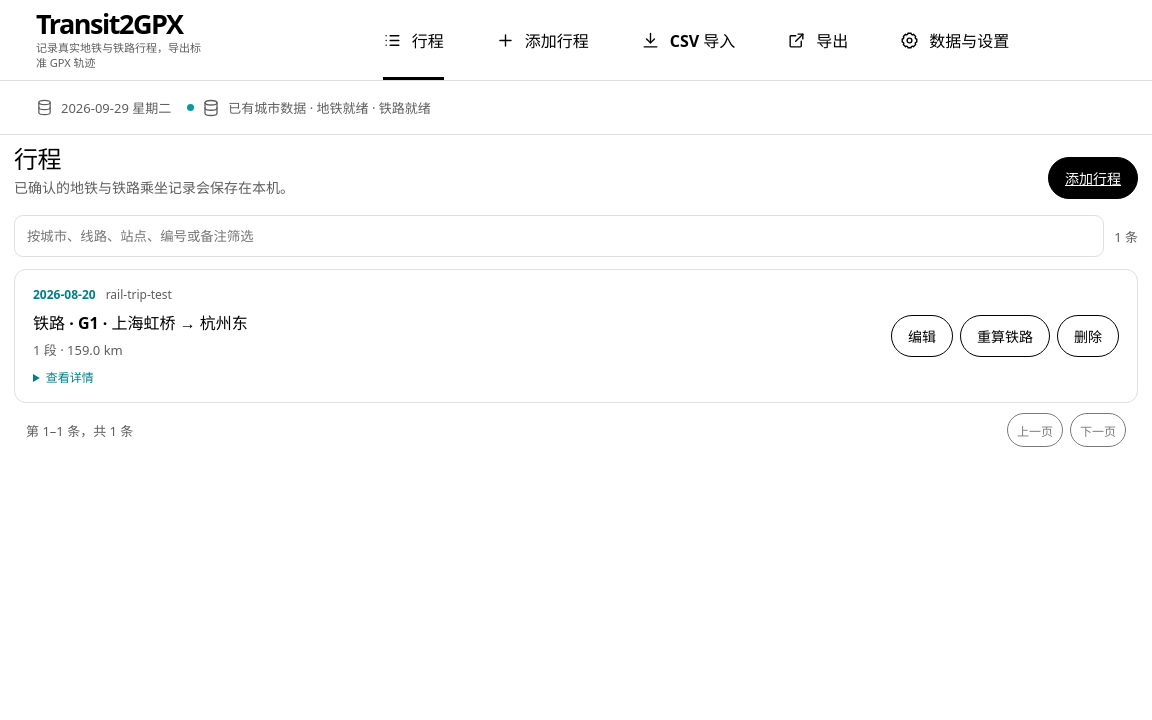
Test: Transit2GPX app shell › previews and confirms an immutable railway journey recompute
Click the button "重算铁路".
click(1005, 336)  # box [960,315,1050,357]
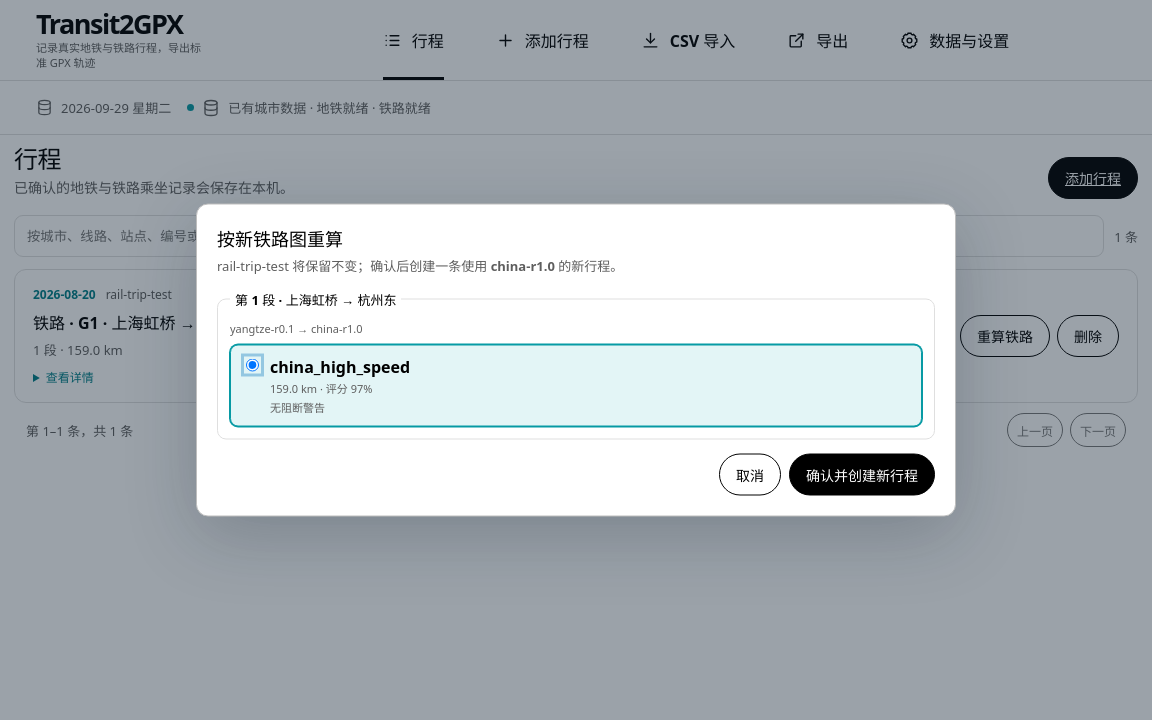
Check: the heading "按新铁路图重算" is shown, box [217,226,343,250]
Check: the text "yangtze-r0.1 → china-r1.0" is shown, box [230,320,363,336]
Check: the text "159.0 km · 评分 97%" is shown, box [270,380,372,396]
Click the button "确认并创建新行程".
click(862, 474)  # box [789,454,935,496]
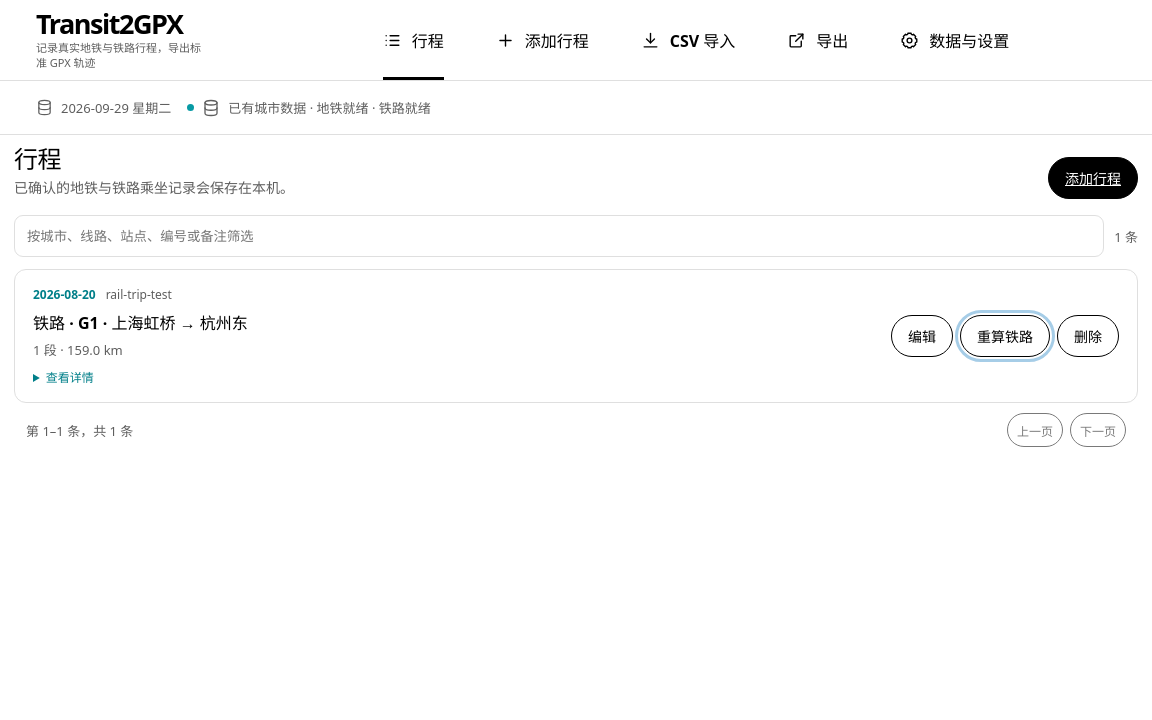
Check: the heading "按新铁路图重算" is gone
